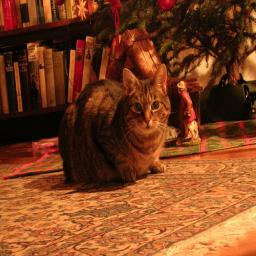catnose: (143, 116, 151, 125)
